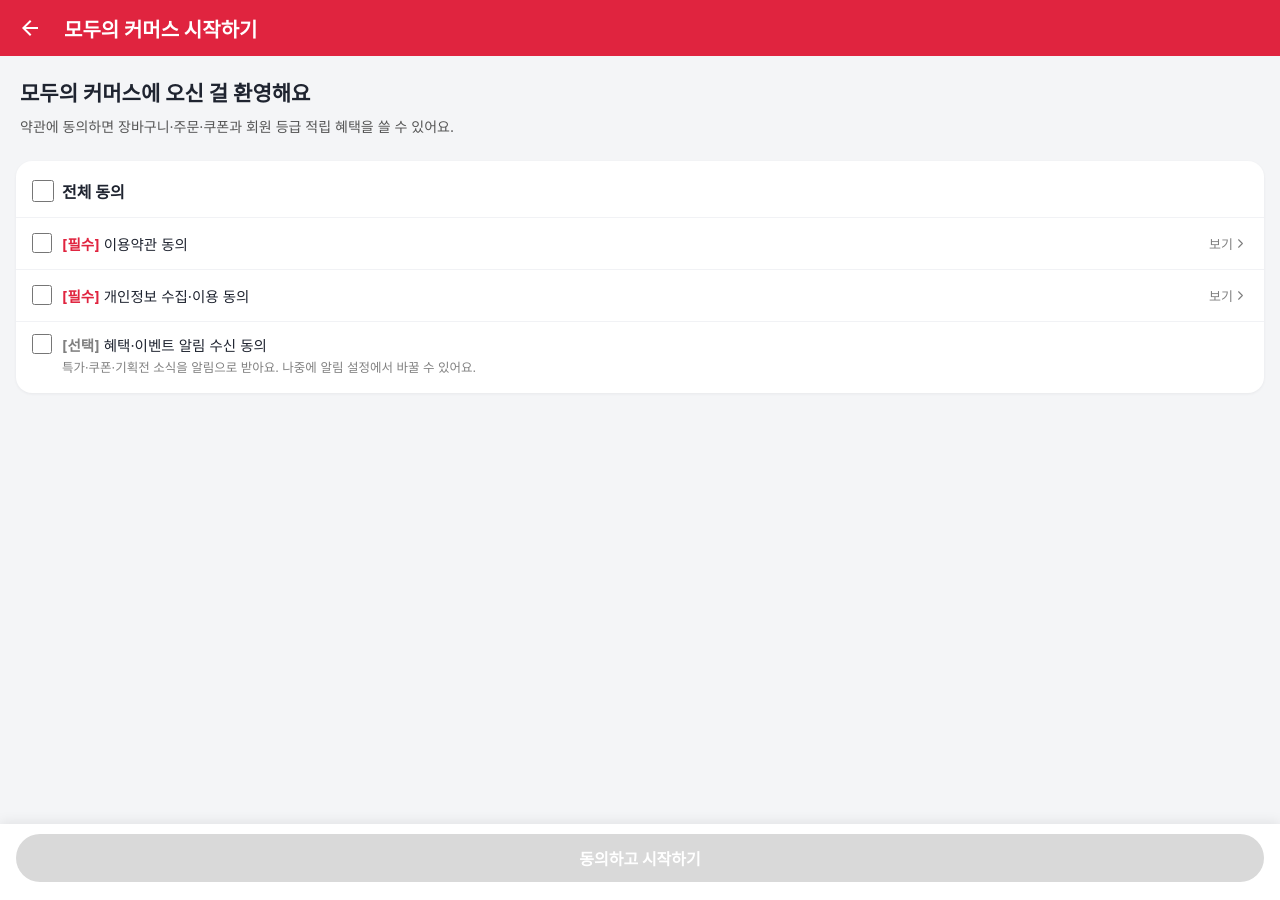
Test: WelcomePage › checks and clears everything with 전체 동의, and links to the draft terms
Click the checkbox labelled "전체 동의". click: (43, 191)
box: [32, 180, 54, 202]
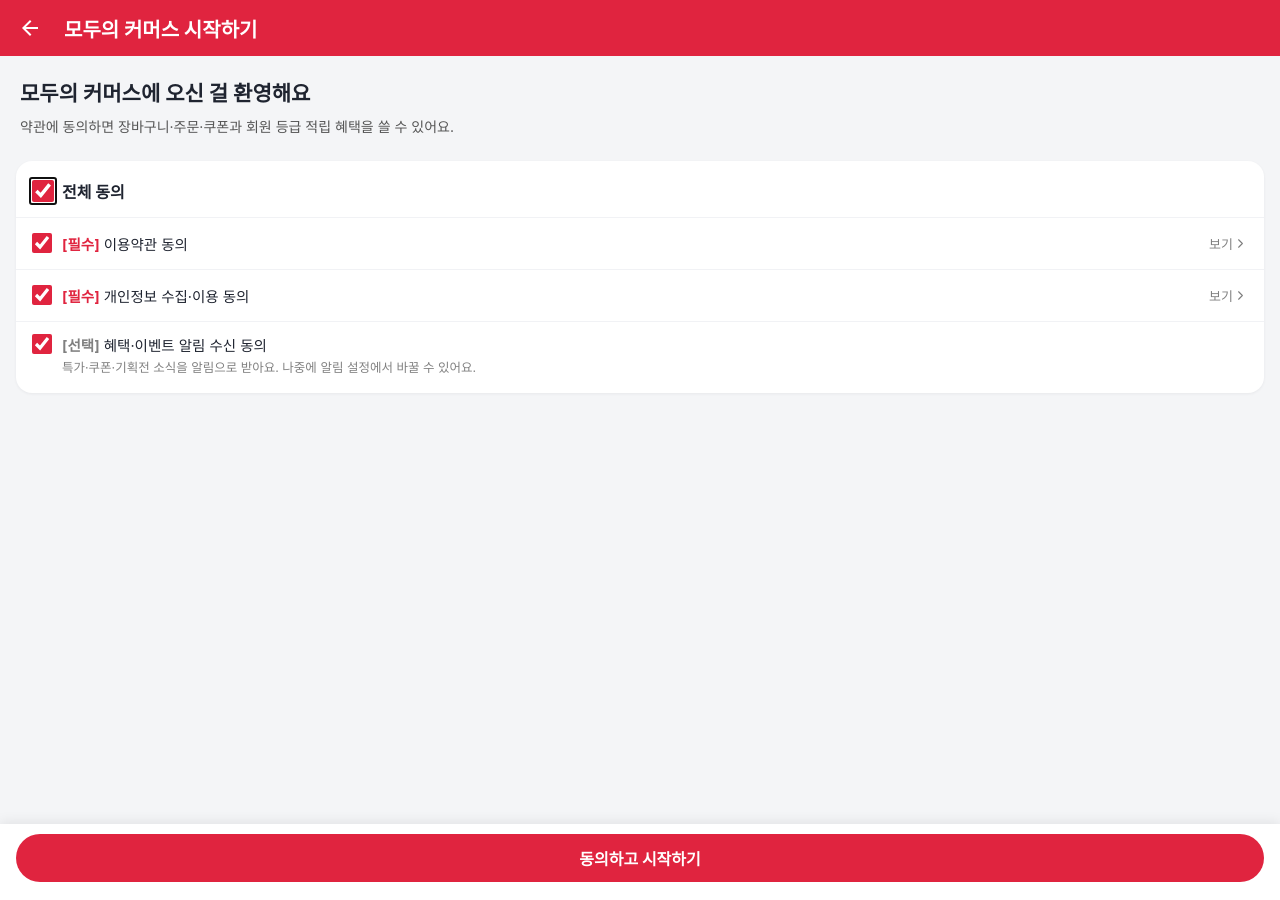
Expected: the checkbox named "이용약관 동의 (필수)" is checked, [32, 233, 52, 253]
Expected: the checkbox named "개인정보 수집·이용 동의 (필수)" is checked, [32, 285, 52, 305]
Expected: the checkbox named "혜택·이벤트 알림 수신 동의 (선택)" is checked, [32, 334, 52, 354]
Click the checkbox labelled "전체 동의". click: (43, 191)
box: [32, 180, 54, 202]
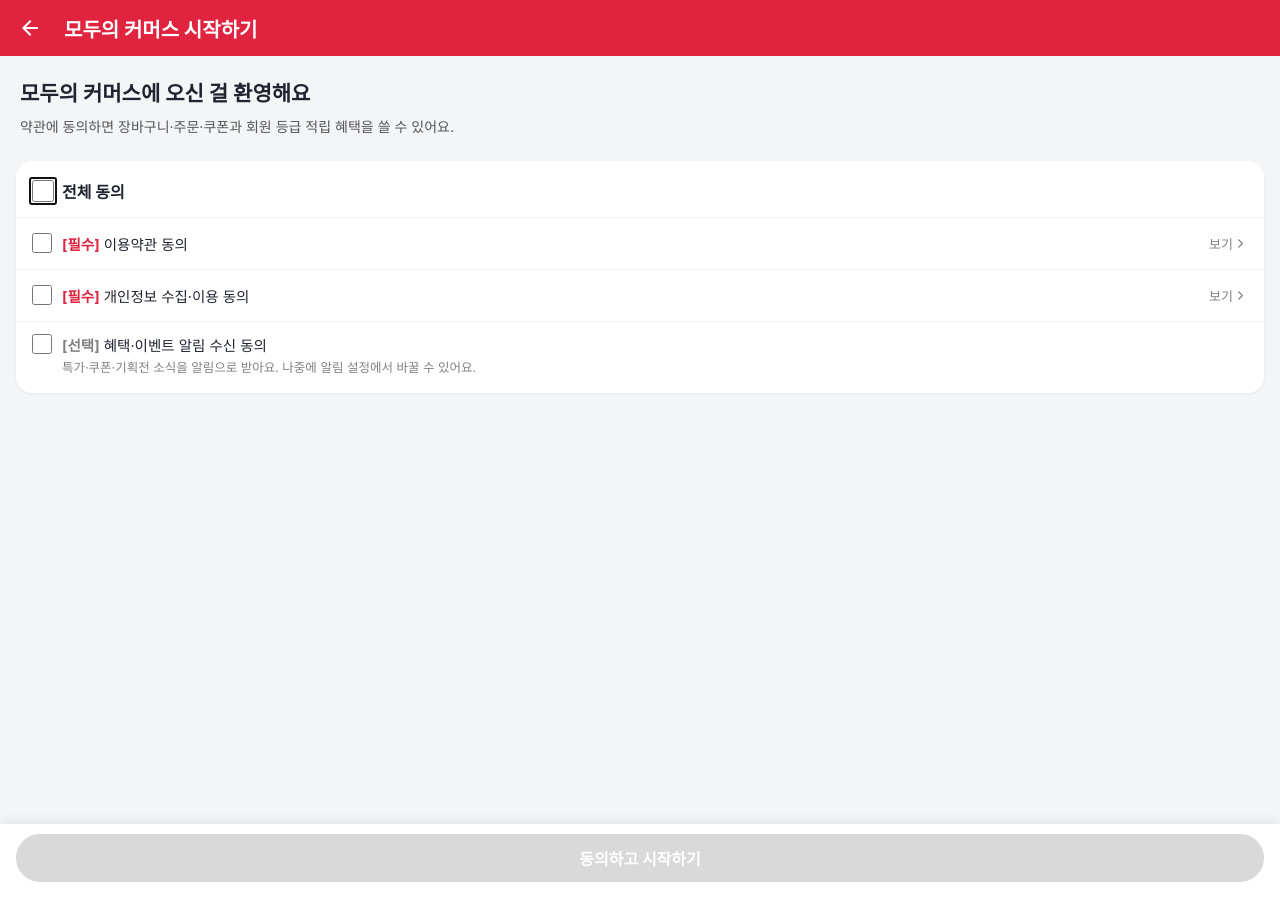
Expected: the button "동의하고 시작하기" is disabled, [16, 834, 1264, 882]
